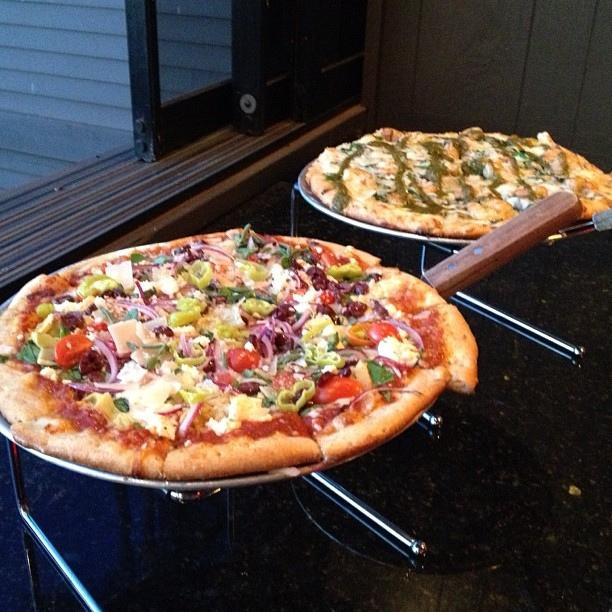onion: (349, 387, 415, 411), (381, 319, 424, 348), (92, 338, 118, 384), (178, 402, 202, 438), (248, 325, 274, 358), (191, 244, 234, 263), (118, 303, 156, 320), (67, 382, 125, 393), (135, 280, 152, 308), (270, 318, 290, 340), (292, 311, 311, 332), (153, 403, 182, 416), (282, 333, 302, 350), (335, 348, 368, 358), (264, 317, 284, 333), (174, 256, 187, 280), (93, 382, 128, 390), (132, 262, 160, 270), (180, 334, 189, 357), (160, 303, 178, 313), (272, 314, 276, 345)
tomato: (308, 375, 367, 404), (54, 334, 94, 370), (226, 348, 260, 374), (345, 322, 376, 349), (366, 323, 402, 345), (272, 372, 298, 393), (318, 245, 339, 268), (320, 290, 335, 304), (90, 322, 108, 330)
